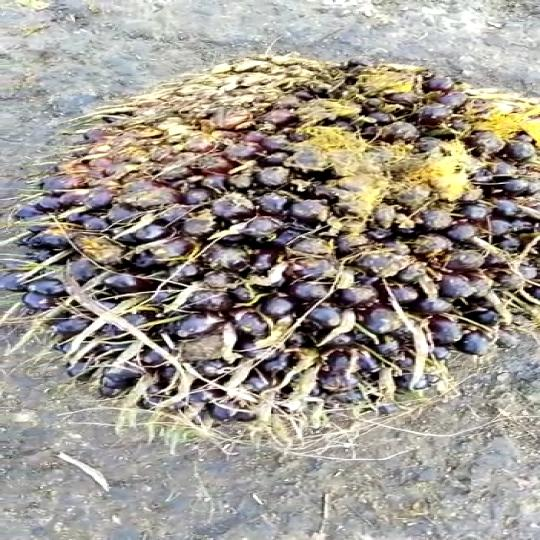mentah: (7, 50, 540, 434)
